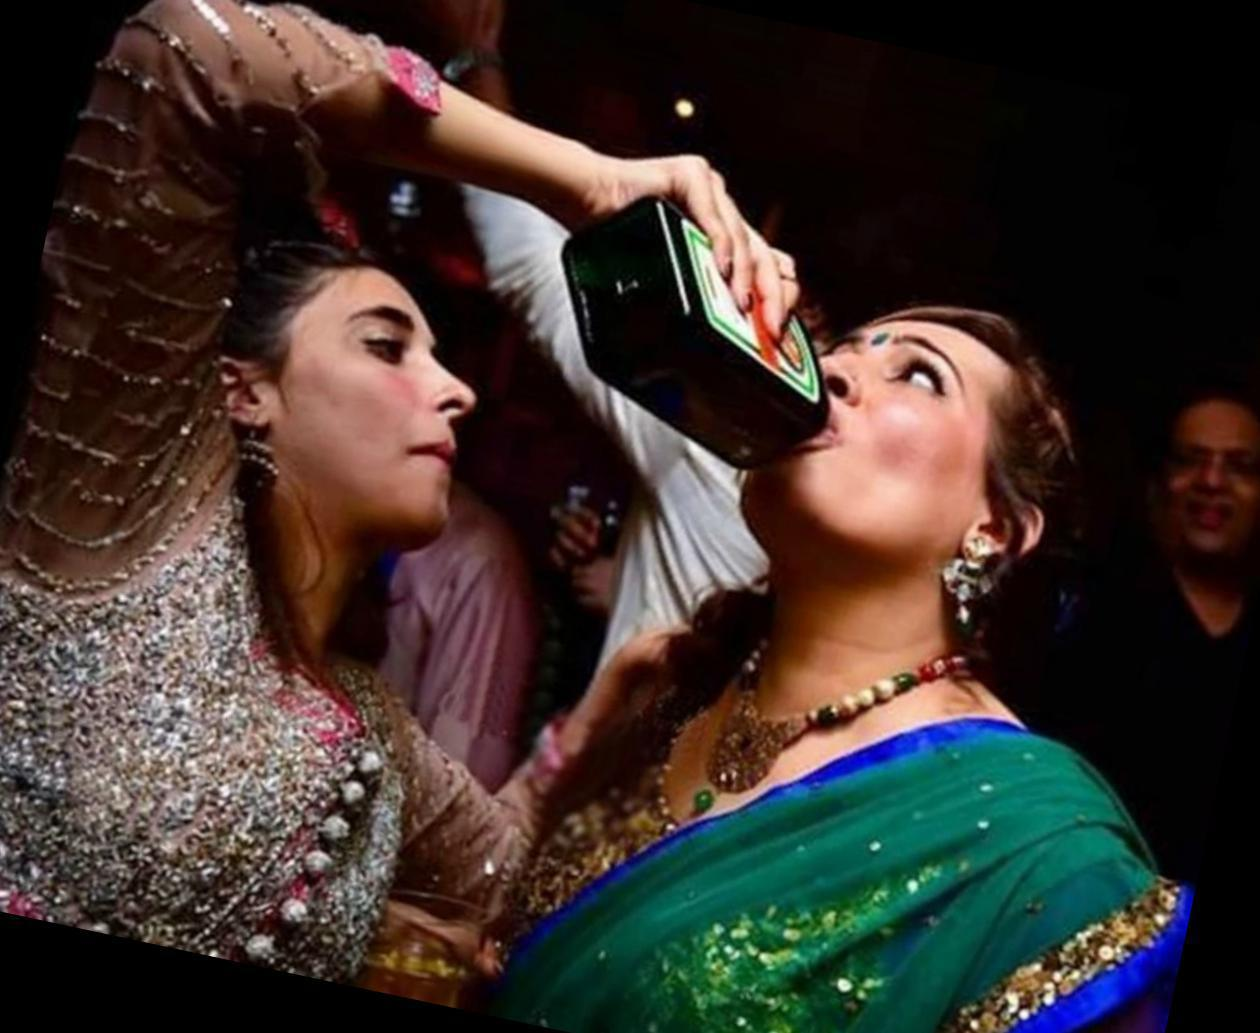Drunk: (766, 301, 989, 556), (311, 268, 481, 527)
